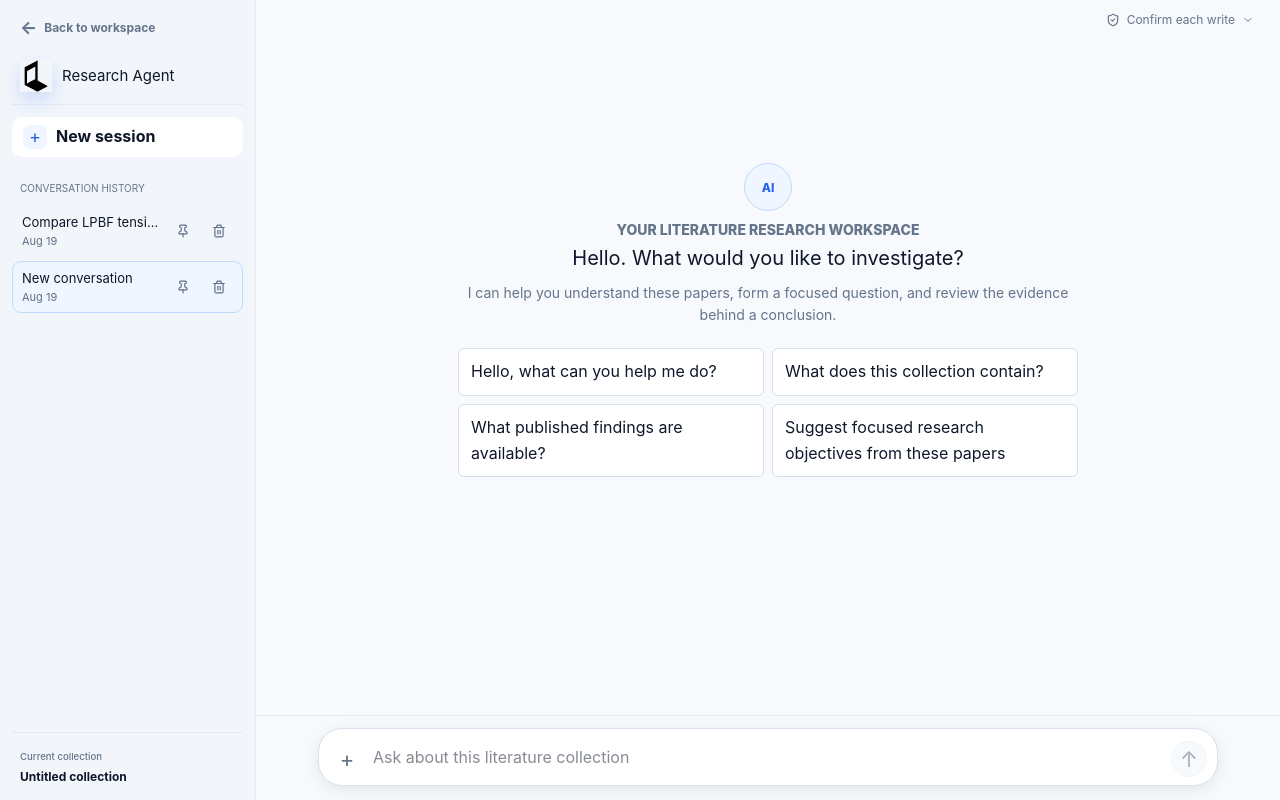
Test: collections/[id]/assistant Research Agent › restores server history titles and the selected session with cached title null
This screenshot has width=1280, height=800.
Expected: the text box named "Message" is enabled, [373,737,1163,777]
Click the button "Compare LPBF tensile conditions Aug 19". click: {"x": 92, "y": 231}
box: [22,213,161,249]
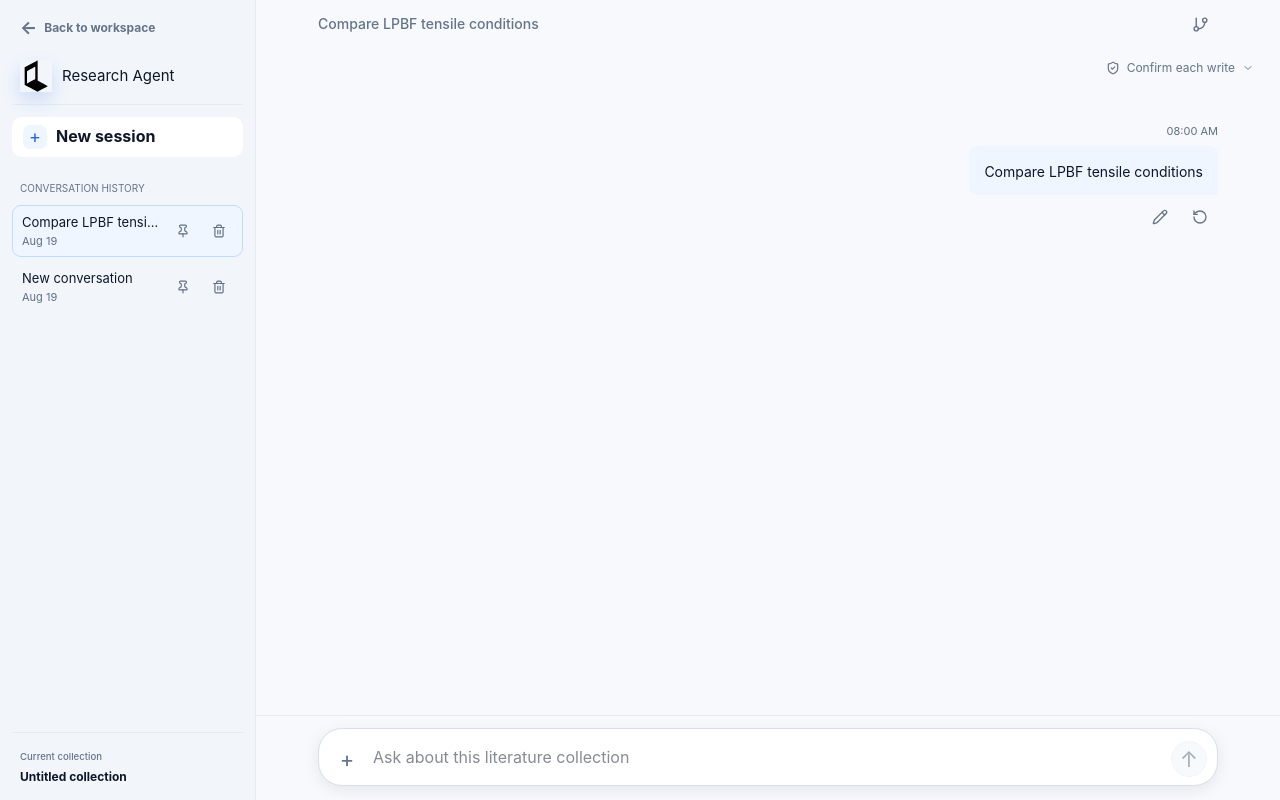
Result: the element with test id "user-message" shows "Compare LPBF tensile conditions" at [984,163,1203,180]
